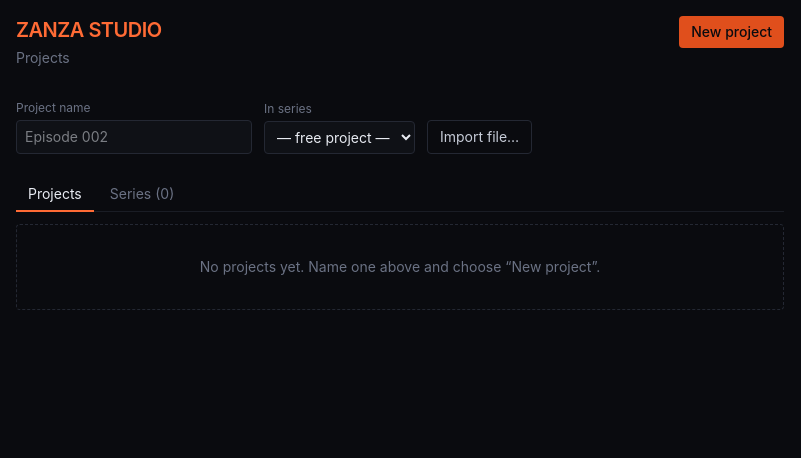
SeriesBrowser › is reachable from the project browser as a tab
The image size is (801, 458).
What coordinates should you click on to do the following:
click the button "Series (0)"
I would click on:
 (142, 195)
Its box is [98, 178, 186, 212].
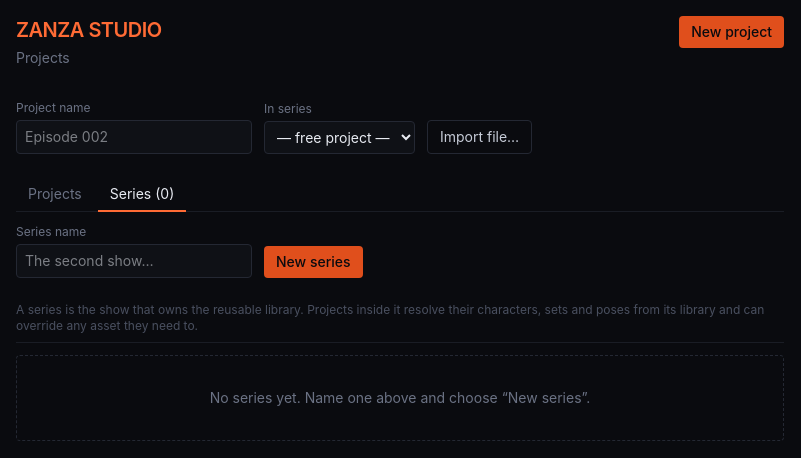
Expected: the field with placeholder "The second show…" is shown, [16, 244, 252, 278]
